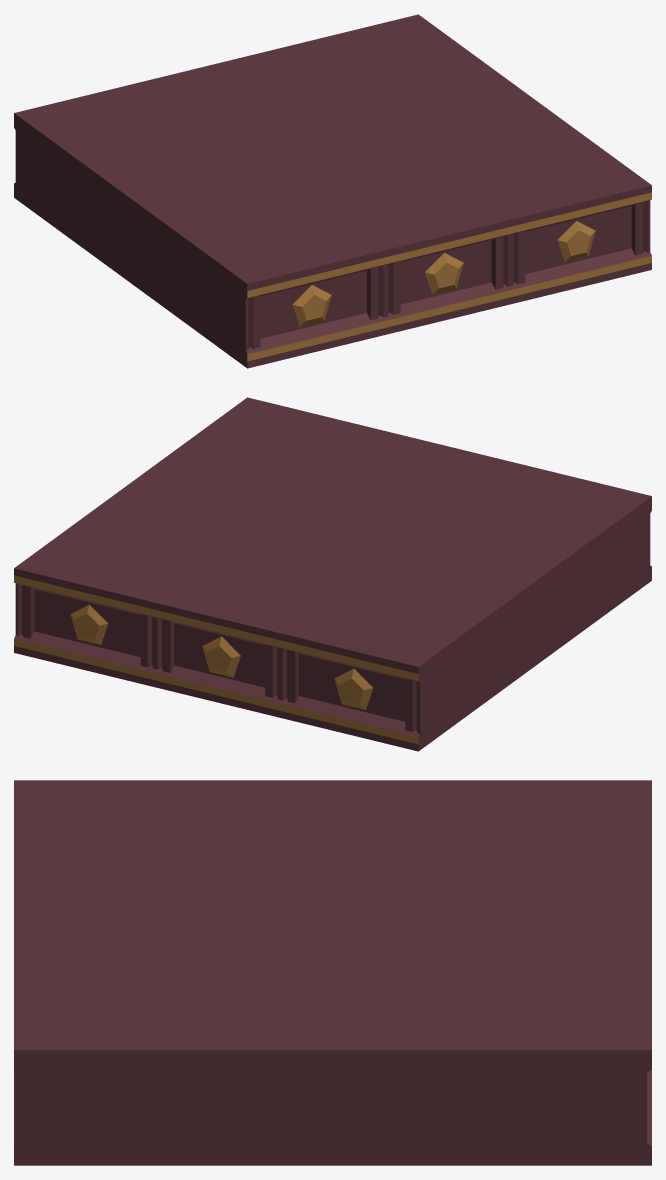
The model's file is SM_Architrave_3x3m_Ornament_FB_Empire.fbx.
3 renders of one model, top to bottom at view 1: azimuth 30°, elevation 25°; view 2: azimuth 150°, elevation 25°; view 3: azimuth 270°, elevation 25°, orthographic. The views are drawn at different scales.
Visible parts, largest first — view 1: SM_Architrave_3x3m_Ornament_FB_Empire; view 2: SM_Architrave_3x3m_Ornament_FB_Empire; view 3: SM_Architrave_3x3m_Ornament_FB_Empire.
Part boxes in pixels (box(x1,y1,x2,y2)): SM_Architrave_3x3m_Ornament_FB_Empire: box(14, 14, 651, 368); SM_Architrave_3x3m_Ornament_FB_Empire: box(14, 397, 651, 751); SM_Architrave_3x3m_Ornament_FB_Empire: box(14, 780, 651, 1165).
Bounding box in the file's own units: 3 × 0.5997 × 3.
